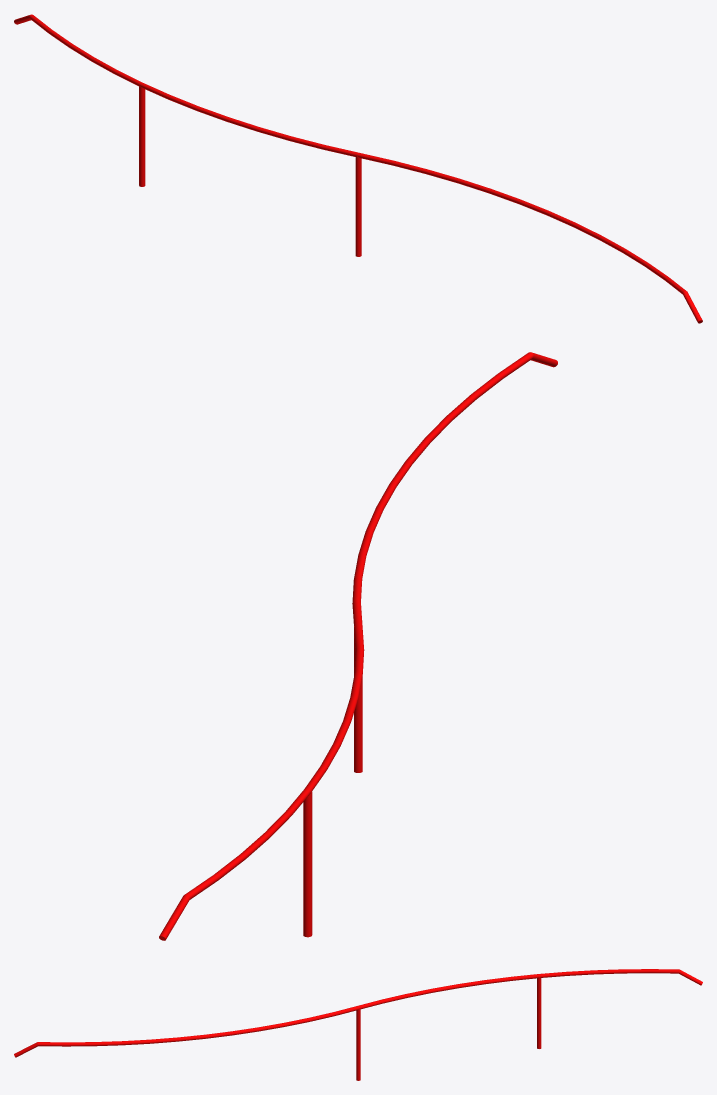
The model's file is currs.fbx.
3 views of the same model, one above another, from view 1: azimuth 30°, elevation 25°; view 2: azimuth 150°, elevation 25°; view 3: azimuth 270°, elevation 25° (orthographic). The views are drawn at different scales.
Parts seen in each view (by area): view 1: SketchUp.017; view 2: SketchUp.017; view 3: SketchUp.017.
Part boxes in pixels (<box>): SketchUp.017: <box>14,14,702,323</box>; SketchUp.017: <box>159,352,557,940</box>; SketchUp.017: <box>14,969,702,1080</box>.
Size of the model in its own units: 8030 by 3687 by 31143.
